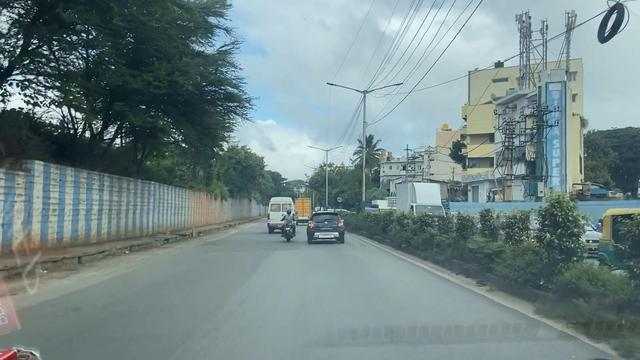LMV: (309, 212, 347, 249), (280, 209, 295, 252)
